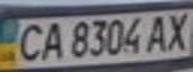0: (106, 16, 127, 56)
3: (87, 17, 109, 57)
4: (124, 15, 148, 55)
8: (66, 18, 90, 60)
A: (142, 11, 175, 54), (36, 19, 69, 62)
C: (9, 20, 48, 63)
X: (160, 10, 193, 52)
